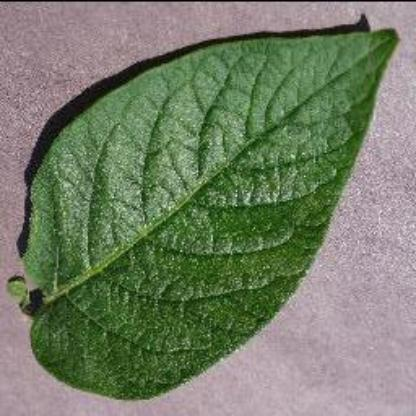Healthy-plant: (11, 23, 404, 403)
